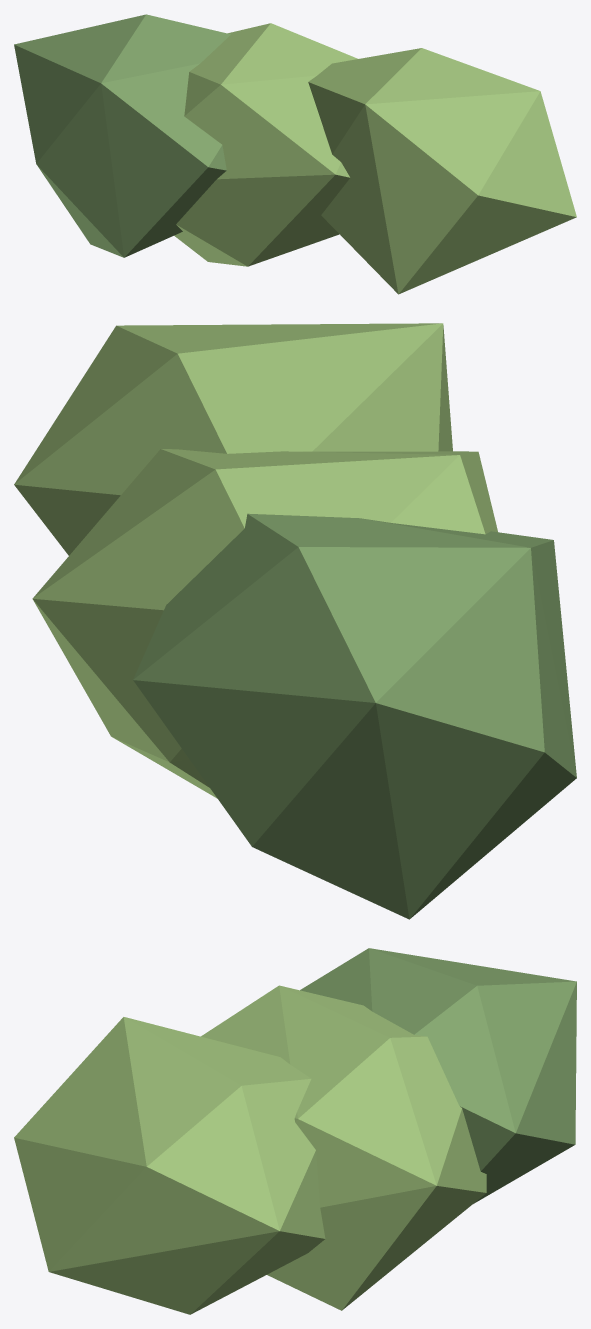
File: bush_gen1.glb
The picture shows the model from 3 angles, top to bottom: view 1: azimuth 30°, elevation 25°; view 2: azimuth 150°, elevation 25°; view 3: azimuth 270°, elevation 25°; orthographic projection. The views are drawn at different scales.
Parts seen in each view (by area): view 1: hull; view 2: hull; view 3: hull.
Boxes of the visible parts, box(x1,y1,x2,y2) form: hull: box(14, 14, 576, 294); hull: box(14, 323, 576, 919); hull: box(14, 948, 576, 1314).
Bounding box in the file's own units: 1.69 × 0.9673 × 1.86.
